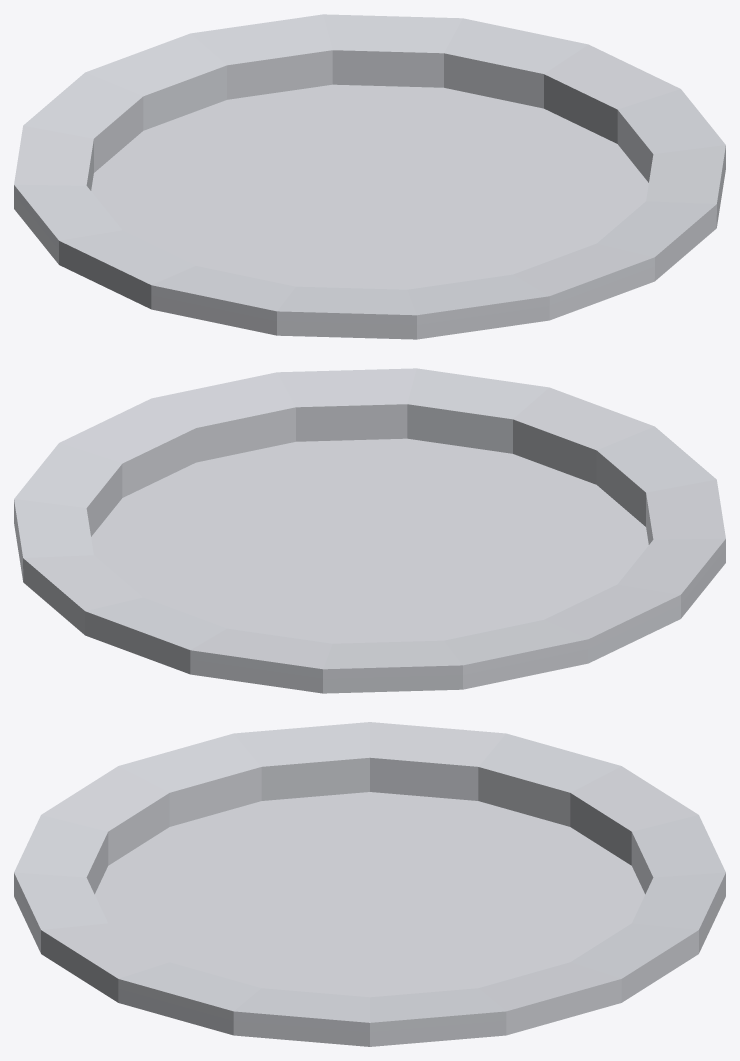
The model's file is SM_plate_01.fbx.
The picture shows the model from 3 angles, top to bottom: view 1: azimuth 30°, elevation 25°; view 2: azimuth 150°, elevation 25°; view 3: azimuth 270°, elevation 25°; orthographic projection.
Visible parts, largest first — view 1: plate_01; view 2: plate_01; view 3: plate_01.
Boxes of the visible parts, x1,y1,x2,y2 form: plate_01: [14, 14, 725, 339]; plate_01: [14, 368, 725, 693]; plate_01: [14, 722, 725, 1046].
Size of the model in its own units: 76.51 by 8.94 by 76.51.
